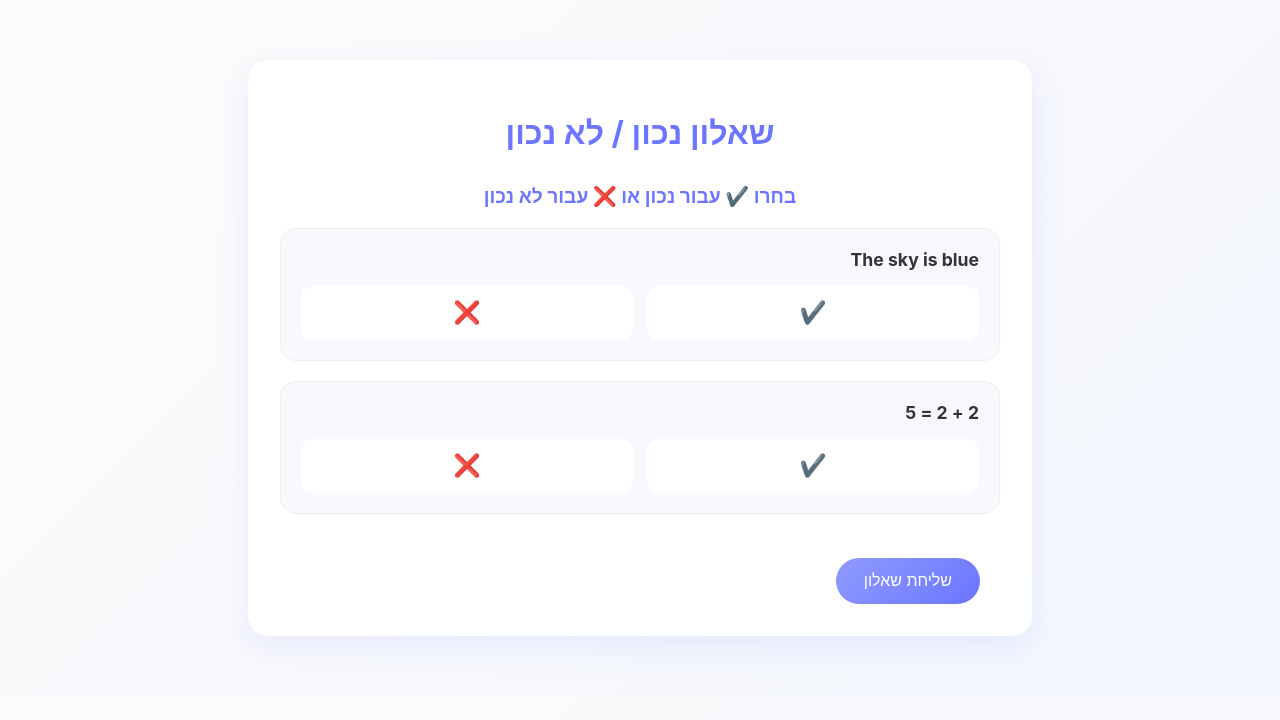
Test: TrueFalseQuizPage Component › calculates score correctly after answering all questions
Click the button "✔️" below "The sky is blue" at (813, 313), box [647,286,979,340]
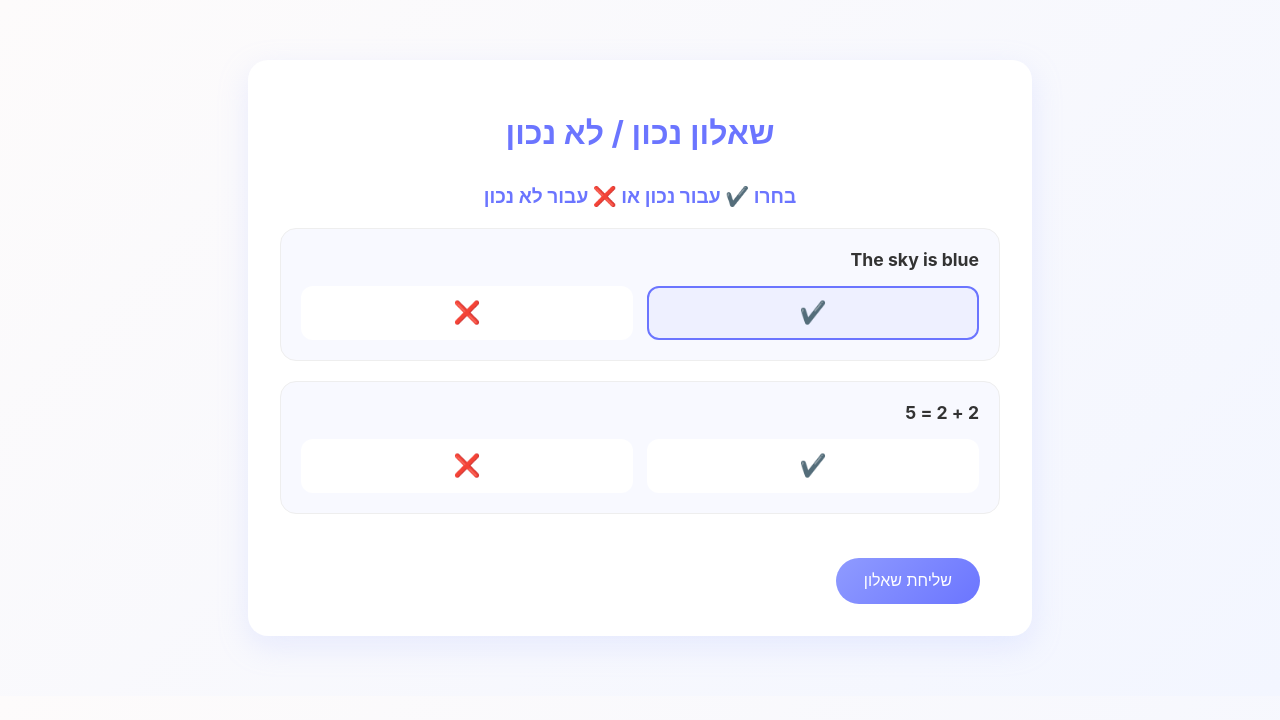
Click the 2nd button "❌" at (467, 466), box [301,439,633,493]
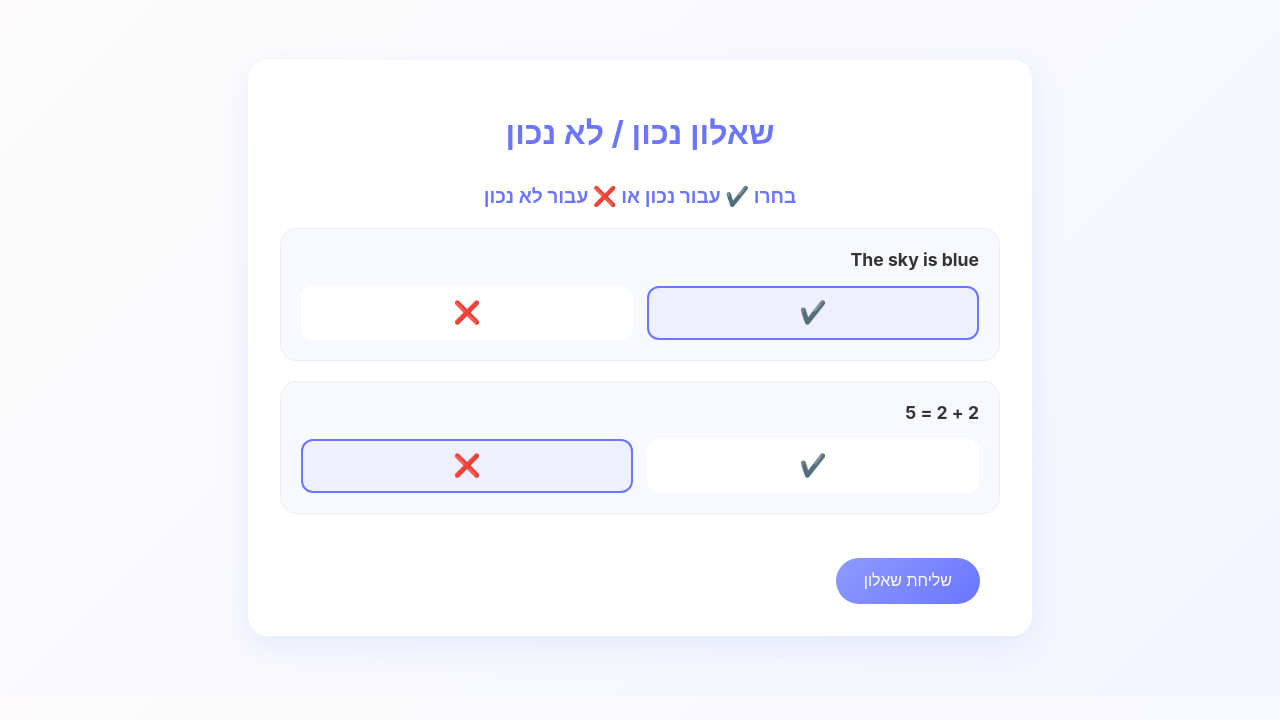
Click the button "שליחת שאלון" at (908, 581), box [836,558,980,604]
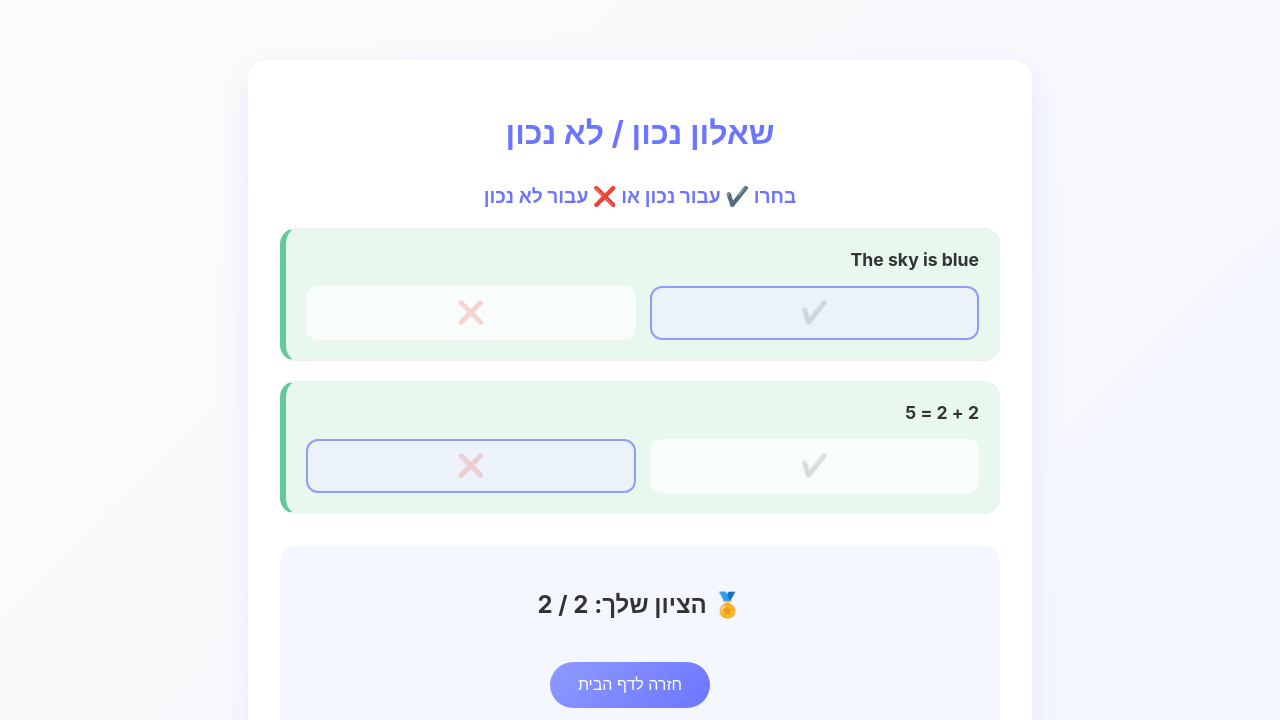
Expected: the heading "🏅 הציון שלך: 2 / 2" is shown, [538,590,742,618]
